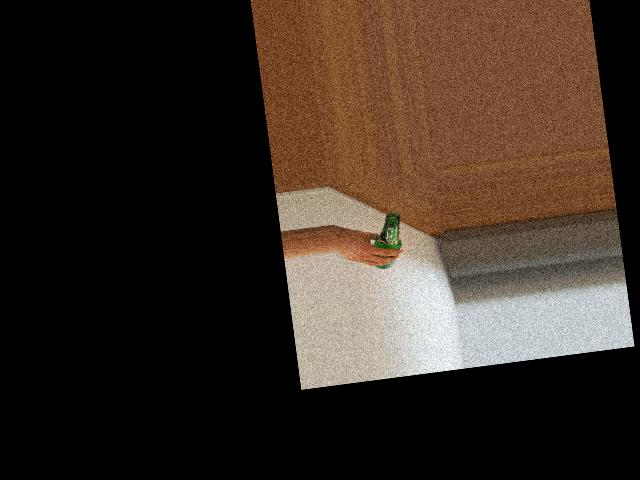beer: (369, 211, 406, 269)
